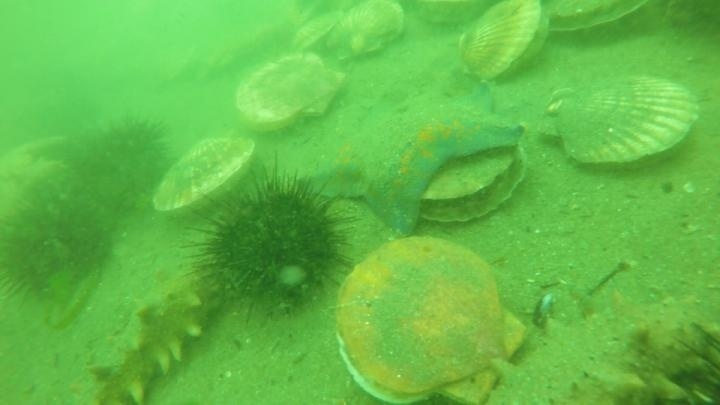echinus: (183, 163, 354, 320), (1, 179, 117, 306), (71, 112, 175, 214), (663, 1, 719, 44)
holothurian: (479, 285, 720, 404), (86, 279, 215, 405), (1, 137, 75, 216)
scallop: (328, 234, 530, 404), (543, 66, 707, 174), (407, 106, 530, 232), (230, 48, 348, 137), (148, 130, 263, 221), (454, 1, 551, 85), (319, 196, 399, 274), (323, 1, 408, 62), (537, 1, 655, 43), (406, 1, 497, 33), (287, 11, 347, 56)
starfish: (302, 77, 530, 234)
